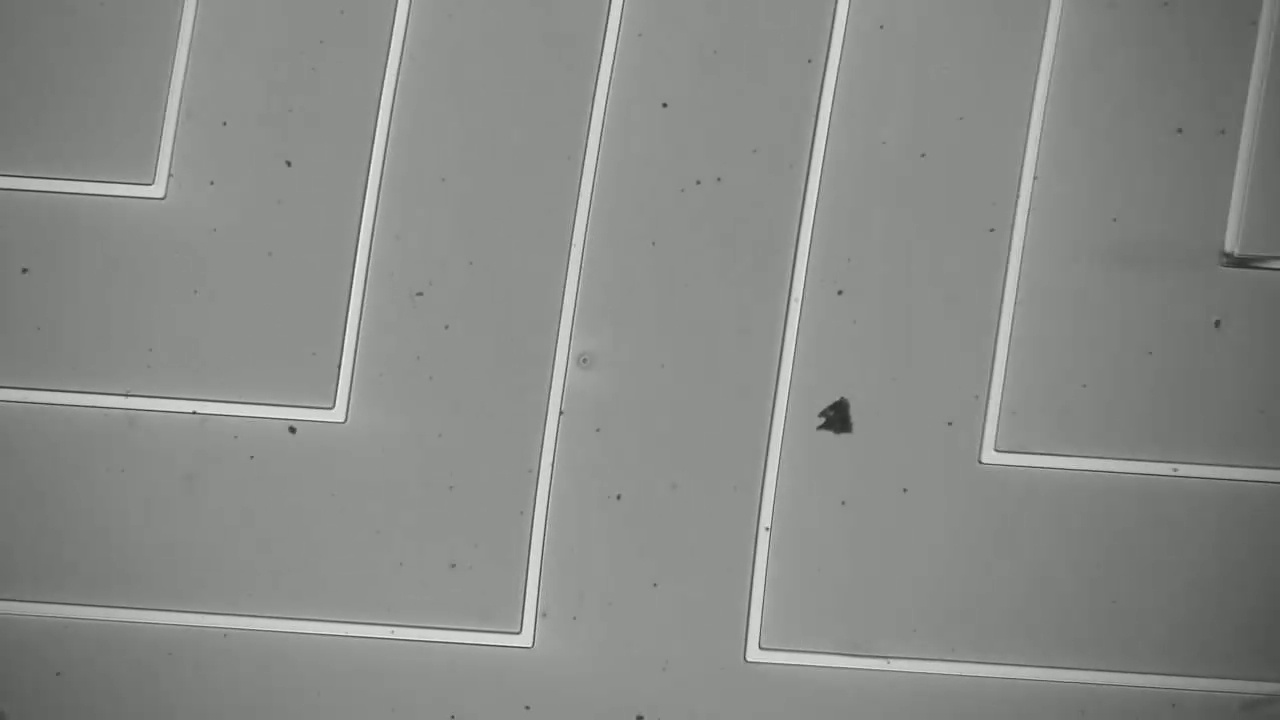gray_line: (1196, 241, 1279, 285)
